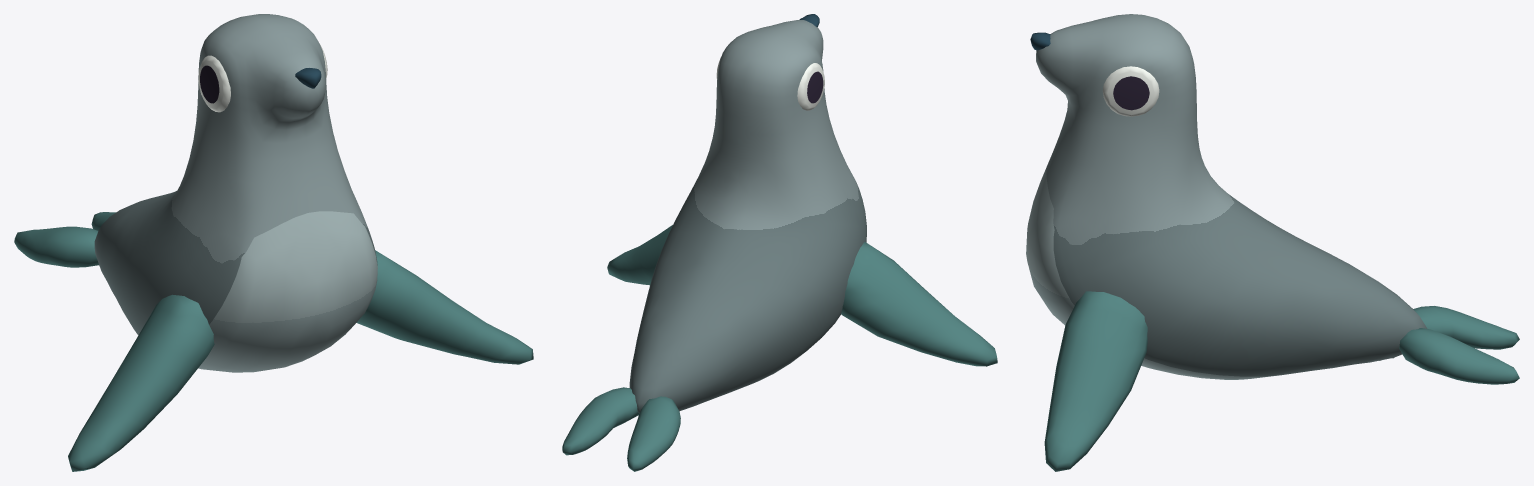
File: seal.glb
3 views of the same model, side by side, from view 1: azimuth 30°, elevation 25°; view 2: azimuth 150°, elevation 25°; view 3: azimuth 270°, elevation 25° (orthographic). The views are drawn at different scales.
Parts seen in each view (by area): view 1: Seal_LOD0; view 2: Seal_LOD0; view 3: Seal_LOD0.
Part boxes in pixels (x1,y1,x2,y2): Seal_LOD0: [14, 14, 533, 471]; Seal_LOD0: [562, 14, 997, 471]; Seal_LOD0: [1026, 14, 1519, 471].
Size of the model in its own units: 275 by 208 by 269.
1 material, 1 textured.
